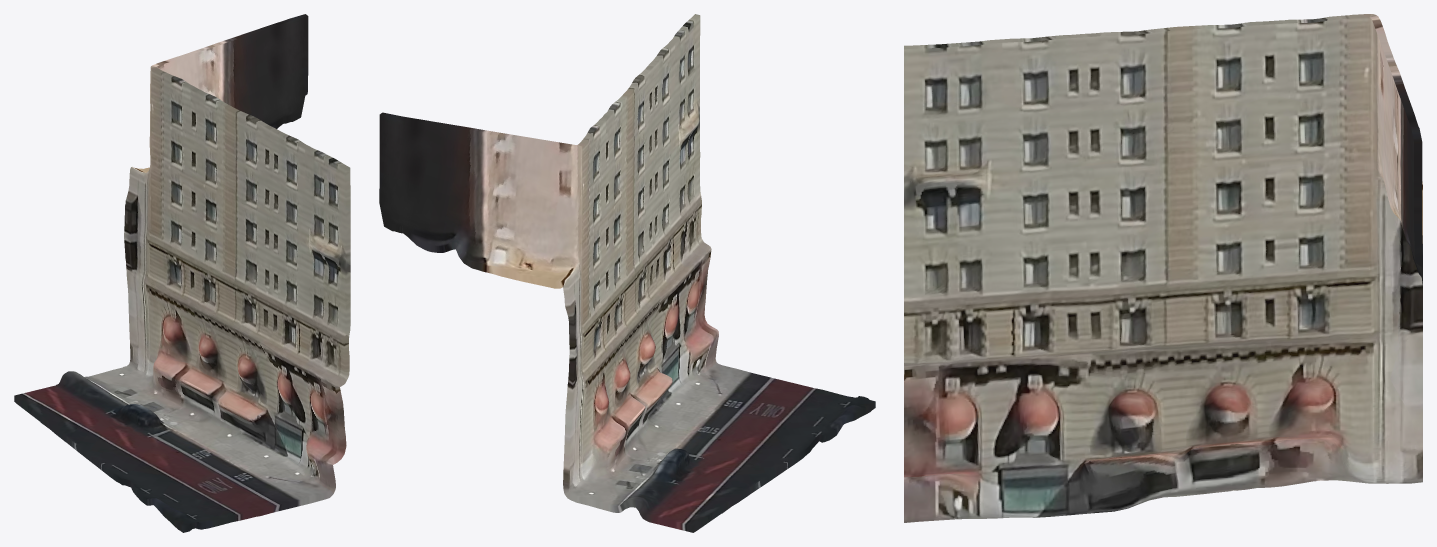
File: z20-167746-405250-h0-yup-uvflip-v3-world.glb
The picture shows the model from 3 angles, left to right: view 1: azimuth 30°, elevation 25°; view 2: azimuth 150°, elevation 25°; view 3: azimuth 270°, elevation 25°; orthographic projection. The views are drawn at different scales.
Size of the model in its own units: 30.16 by 32.32 by 30.32.
Materials: 1 (1 with a texture image).
